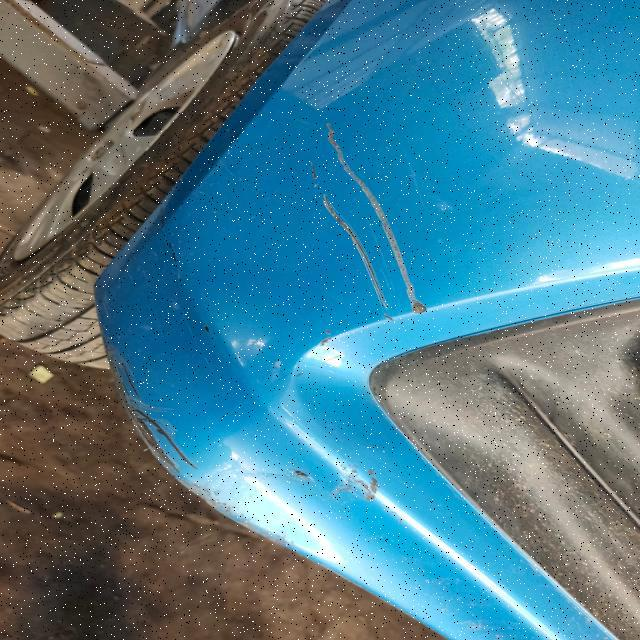front-bumper-dent: (74, 88, 638, 640)
